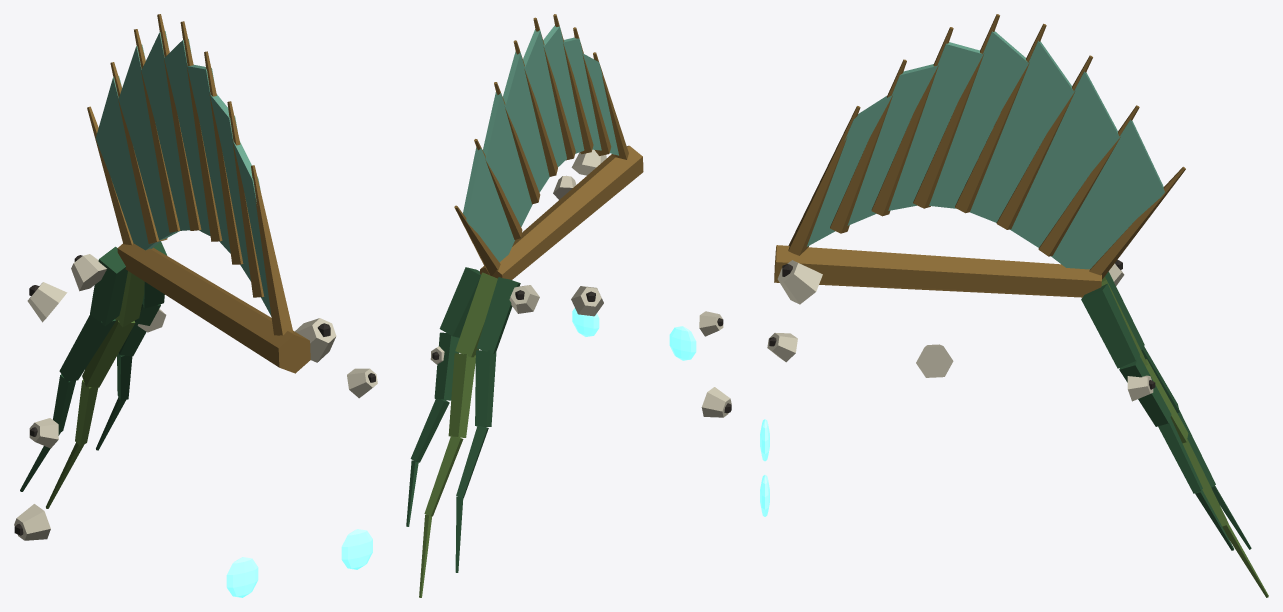
The model's file is tide_knight_helm.glb.
3 renders of one model, left to right at view 1: azimuth 30°, elevation 25°; view 2: azimuth 150°, elevation 25°; view 3: azimuth 270°, elevation 25°, orthographic. The views are drawn at different scales.
Visible parts, largest first — view 1: tide_knight_helm; view 2: tide_knight_helm; view 3: tide_knight_helm.
Part boxes in pixels (x1,y1,x2,y2): tide_knight_helm: [14, 14, 377, 597]; tide_knight_helm: [406, 14, 731, 597]; tide_knight_helm: [760, 14, 1268, 597].
Bounding box in the file's own units: 0.9357 × 1.86 × 1.47.
